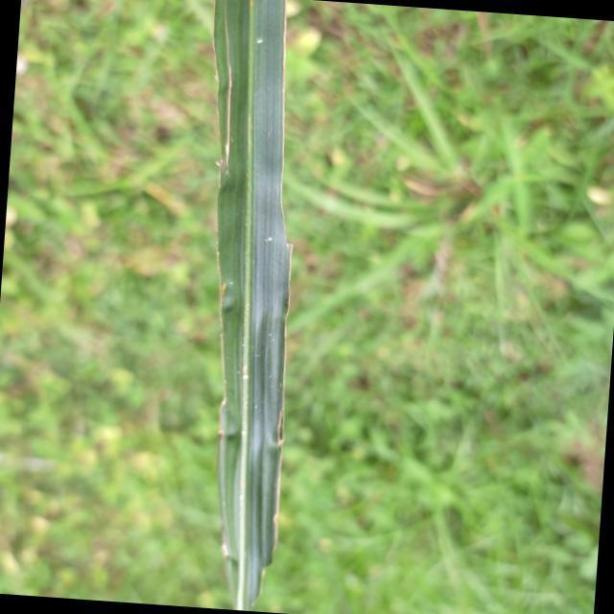Boron: (203, 0, 294, 614)
